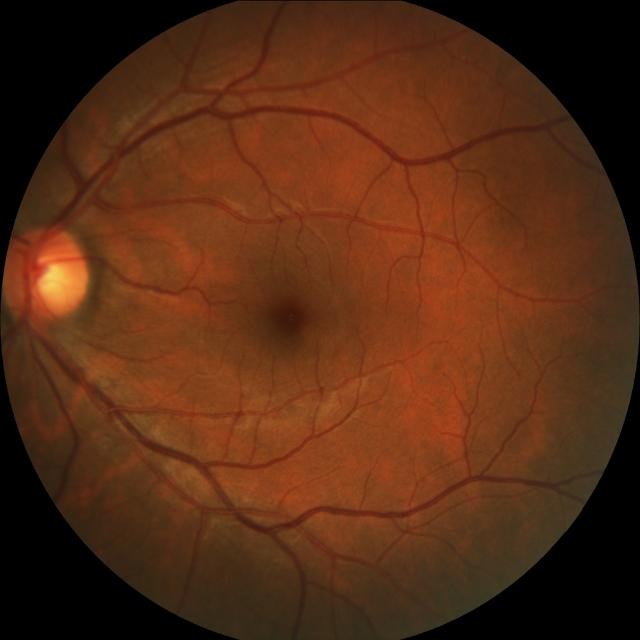OC: (26, 246, 67, 304)
OD: (0, 226, 88, 324)
